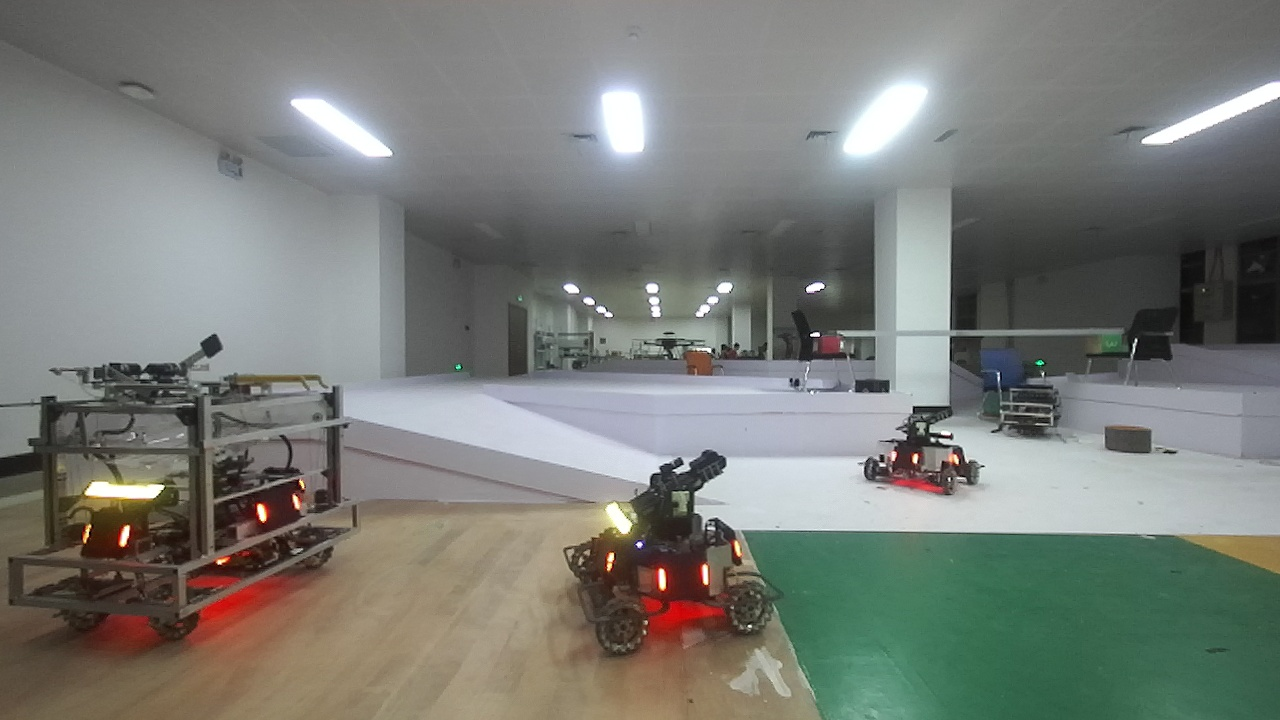car: (6, 337, 374, 645), (556, 438, 800, 658), (842, 395, 998, 502)
